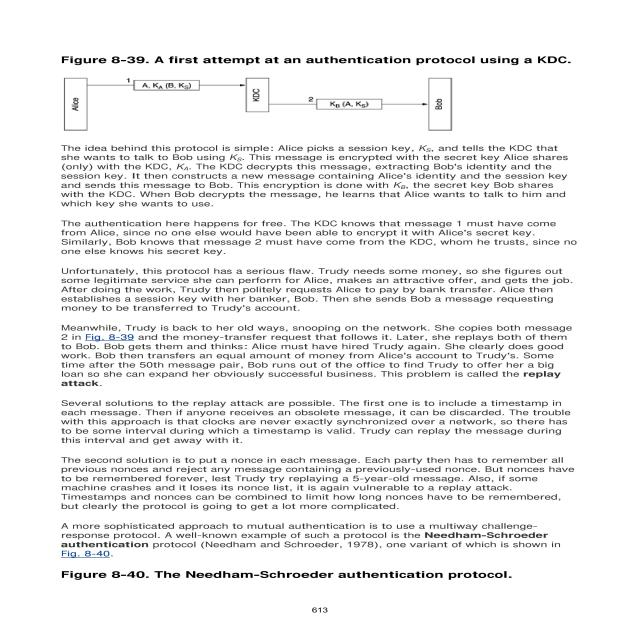diagram: (32, 49, 580, 134)
